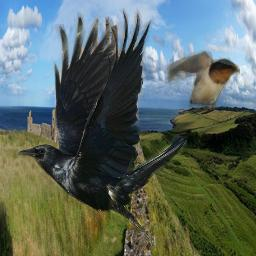Crow: (16, 6, 187, 252)
Swallow: (165, 50, 240, 110)
